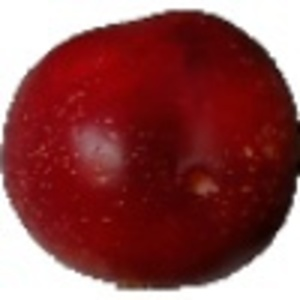nectarina: (1, 8, 300, 293)
